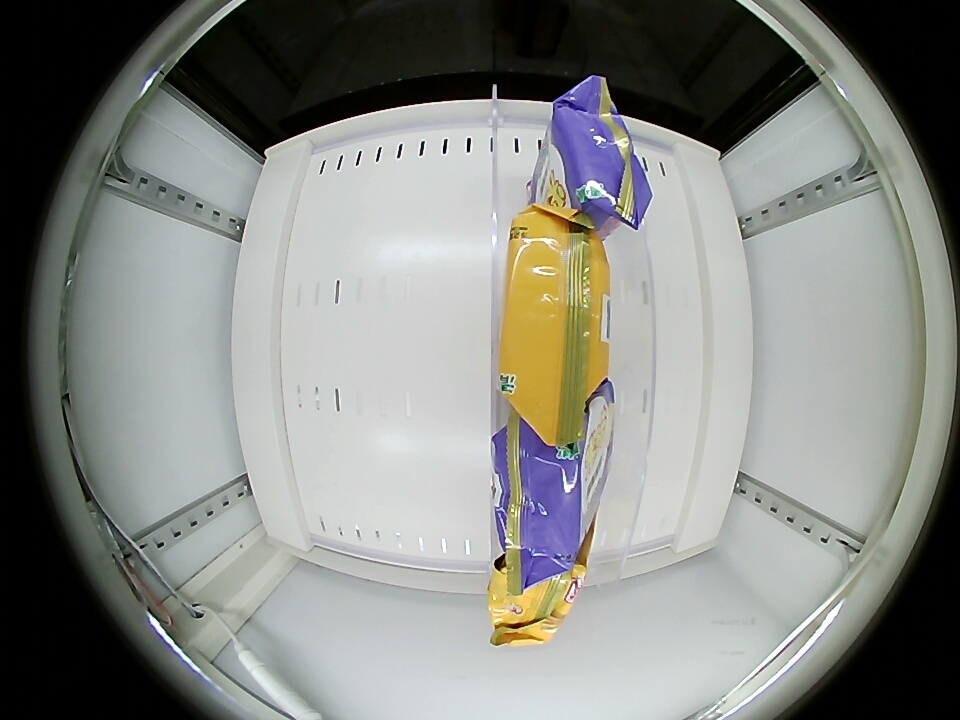kaomo_gali: (498, 210, 612, 433), (487, 553, 588, 646)
kaomo_jiaoyan: (491, 406, 609, 580), (532, 87, 653, 228)
